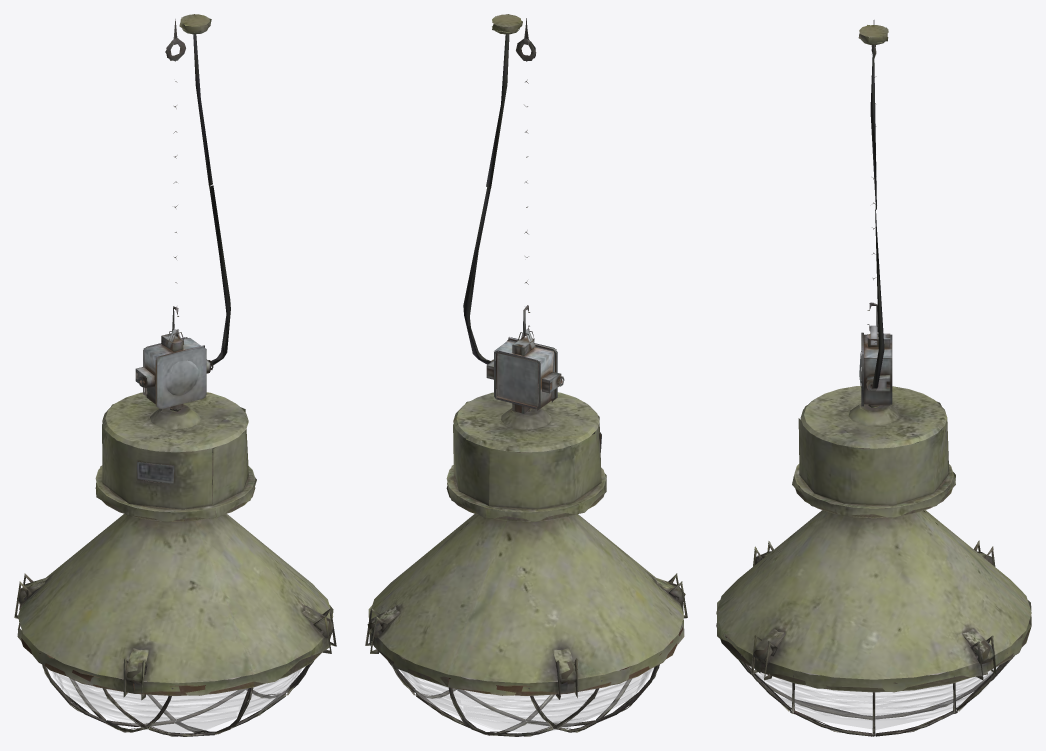
Rendered from hanging_industrial_lamp.glb.
3 renders of one model, left to right at view 1: azimuth 30°, elevation 25°; view 2: azimuth 150°, elevation 25°; view 3: azimuth 270°, elevation 25°, orthographic.
Parts seen in each view (by area): view 1: hanging_industrial_lamp; view 2: hanging_industrial_lamp; view 3: hanging_industrial_lamp.
Part boxes in pixels (x1,y1,x2,y2): hanging_industrial_lamp: (14, 14, 336, 736); hanging_industrial_lamp: (365, 14, 687, 736); hanging_industrial_lamp: (716, 20, 1031, 736).
Bounding box in the file's own units: 0.5496 × 1.36 × 0.5496.
2 materials, 1 textured.
